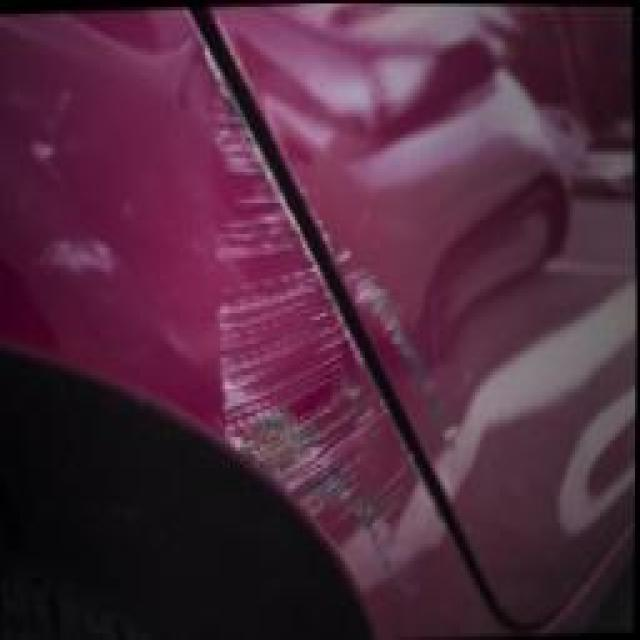Door: (239, 49, 499, 474)
Fender: (164, 38, 455, 640)
